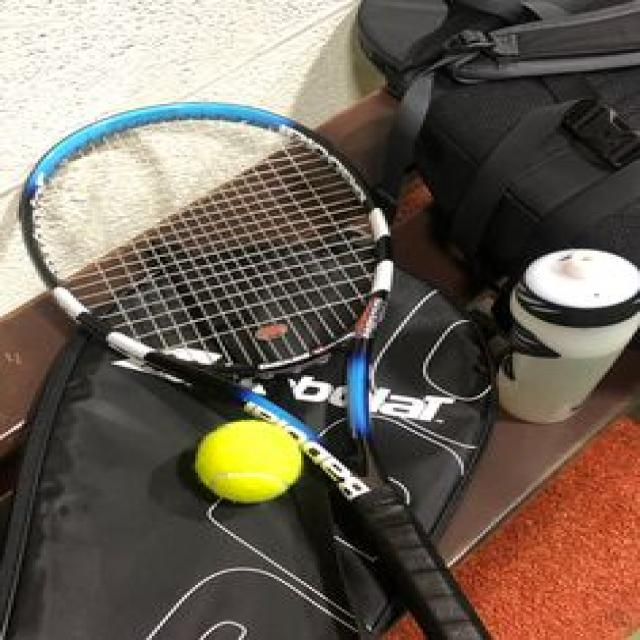tennis: (194, 416, 301, 502)
